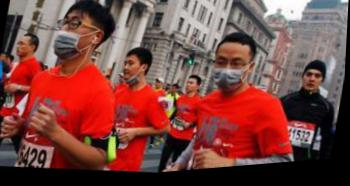NONE: (304, 76, 324, 97), (17, 39, 33, 59), (186, 82, 199, 97)
OK: (213, 54, 253, 99)
WRONG: (52, 14, 96, 64), (122, 61, 147, 87)
